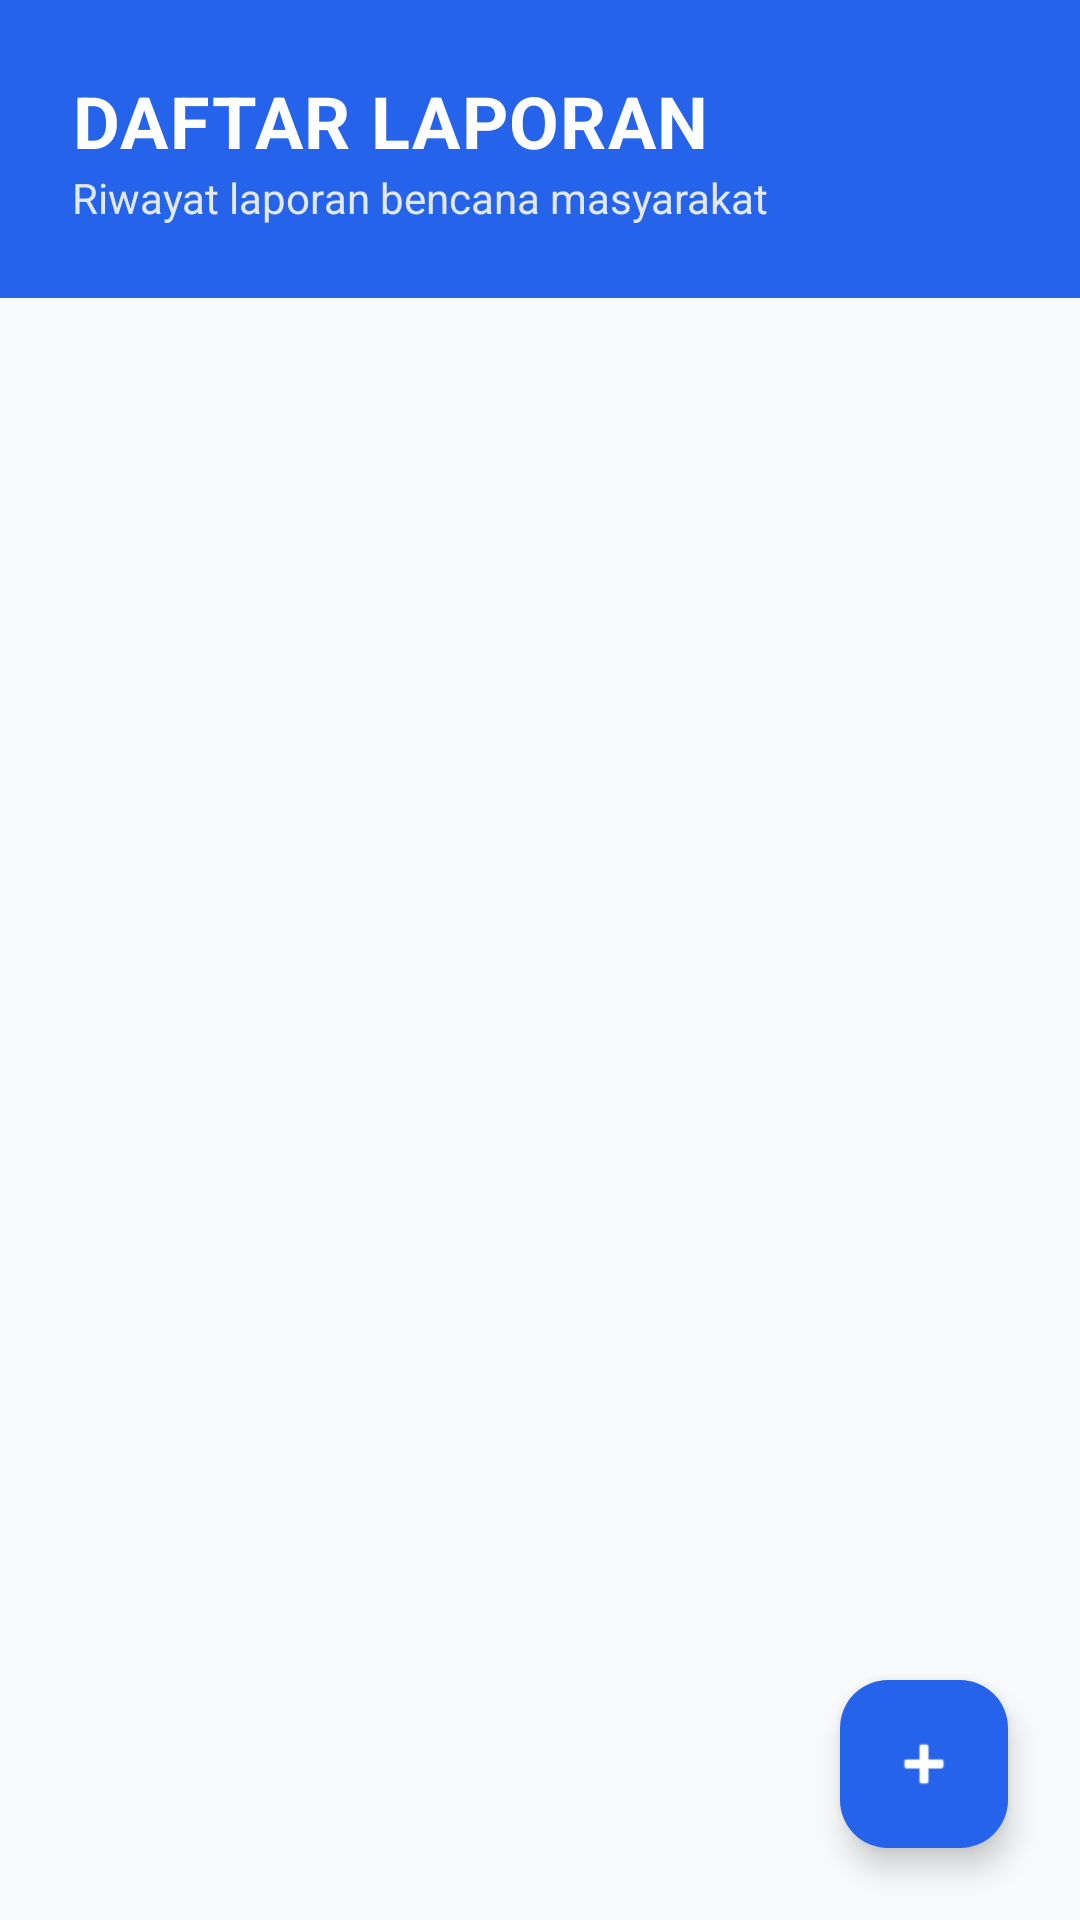

Icon bounding boxes for this 1080w x 1920h phone screenshot, format (x1, y1, x2, y2):
Add Note: (840, 1680, 1008, 1848)
